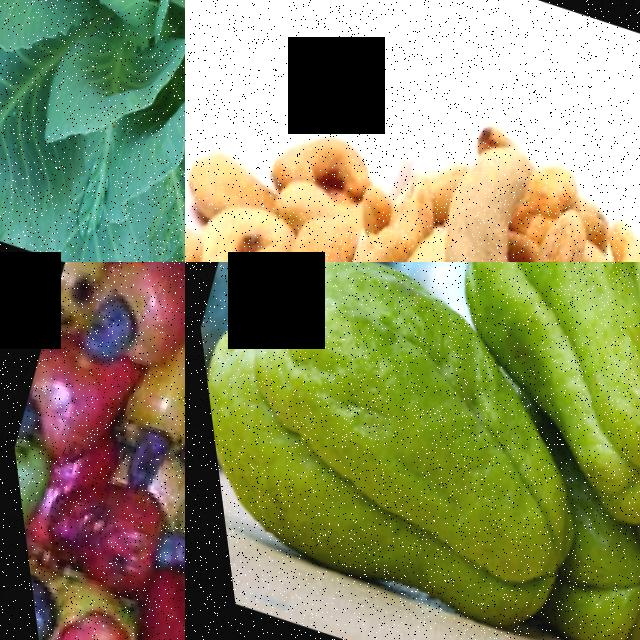cabbage: (0, 0, 185, 262)
cashew: (390, 131, 572, 262), (246, 94, 377, 198), (488, 198, 635, 262), (185, 178, 282, 262)
chayote: (185, 262, 561, 640), (411, 262, 640, 387)
